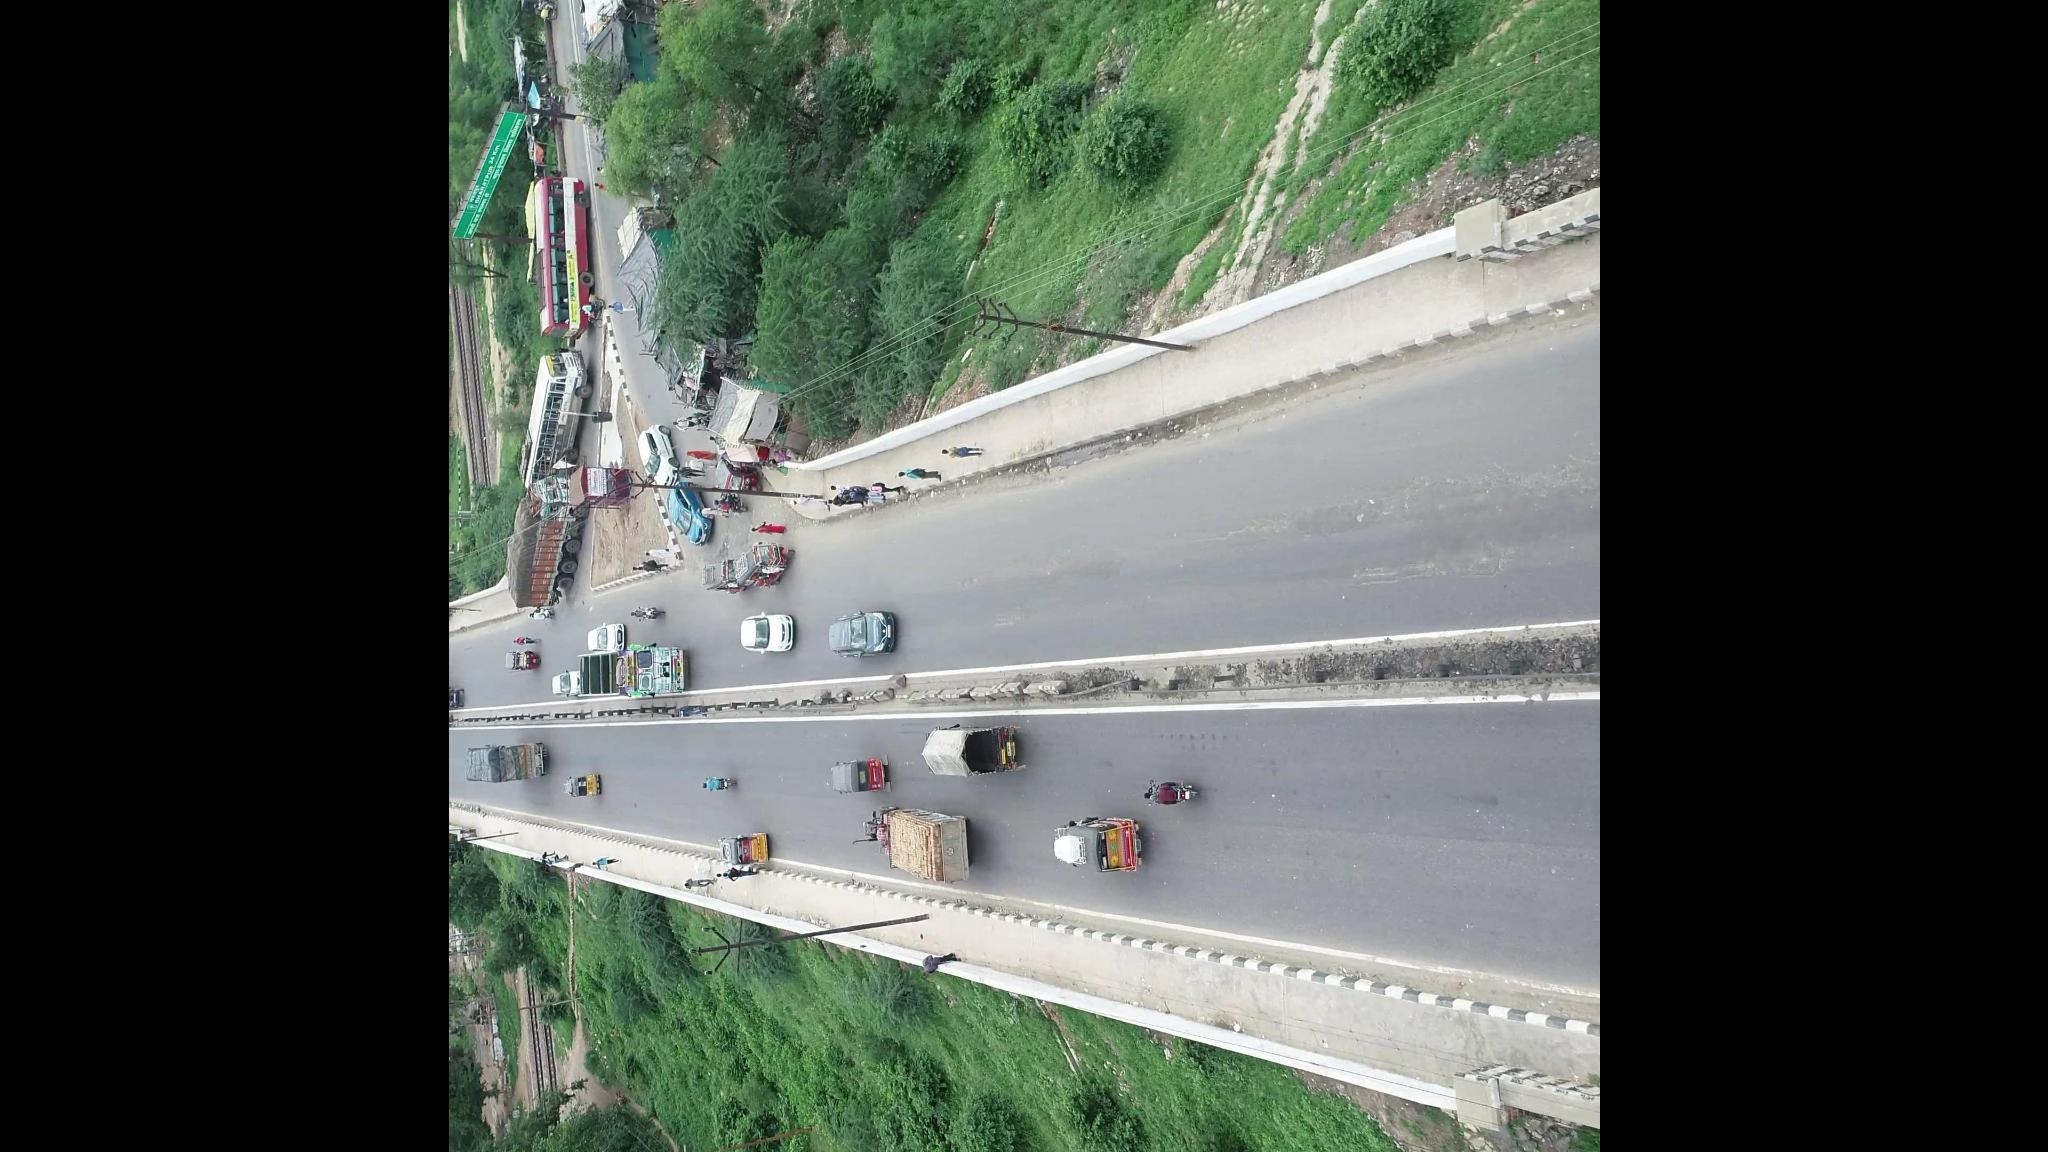Ravelling: (1201, 473, 1571, 551), (1336, 546, 1513, 595)
